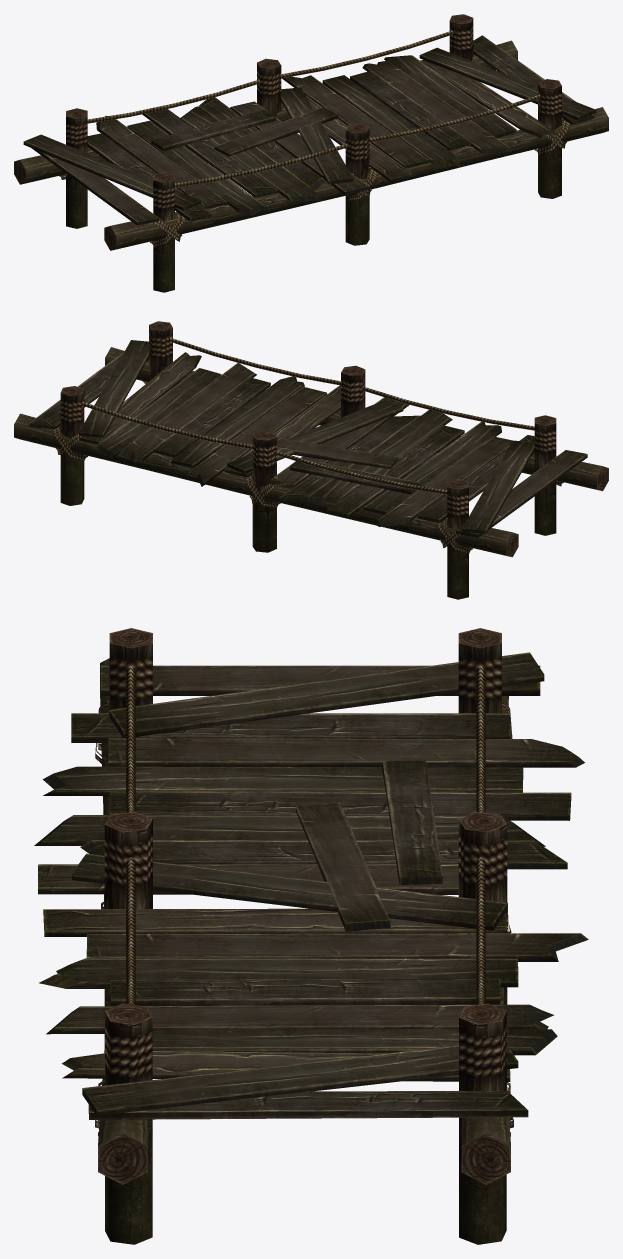
The model's file is Bridge.fbx.
3 views of the same model, one above another, from view 1: azimuth 30°, elevation 25°; view 2: azimuth 150°, elevation 25°; view 3: azimuth 270°, elevation 25° (orthographic). The views are drawn at different scales.
Visible parts, largest first — view 1: Bridge; view 2: Bridge; view 3: Bridge.
Boxes of the visible parts, x1=… form: Bridge: x1=14, y1=14, x2=608, y2=292; Bridge: x1=14, y1=321, x2=608, y2=599; Bridge: x1=34, y1=628, x2=588, y2=1244.
Size of the model in its own units: 10.85 by 2.37 by 5.3.
